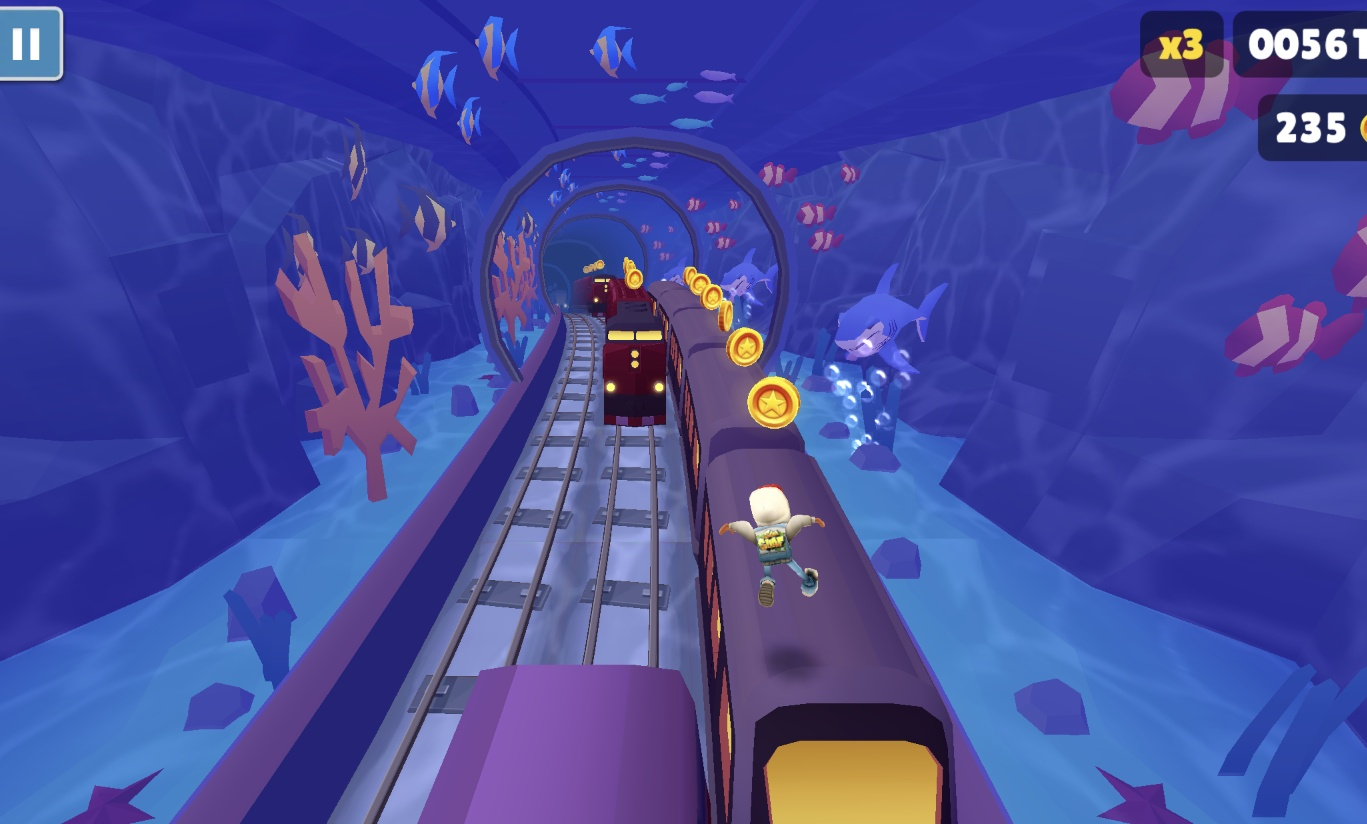train: (645, 279, 966, 824), (419, 665, 701, 824), (604, 287, 668, 427), (582, 277, 621, 320)
